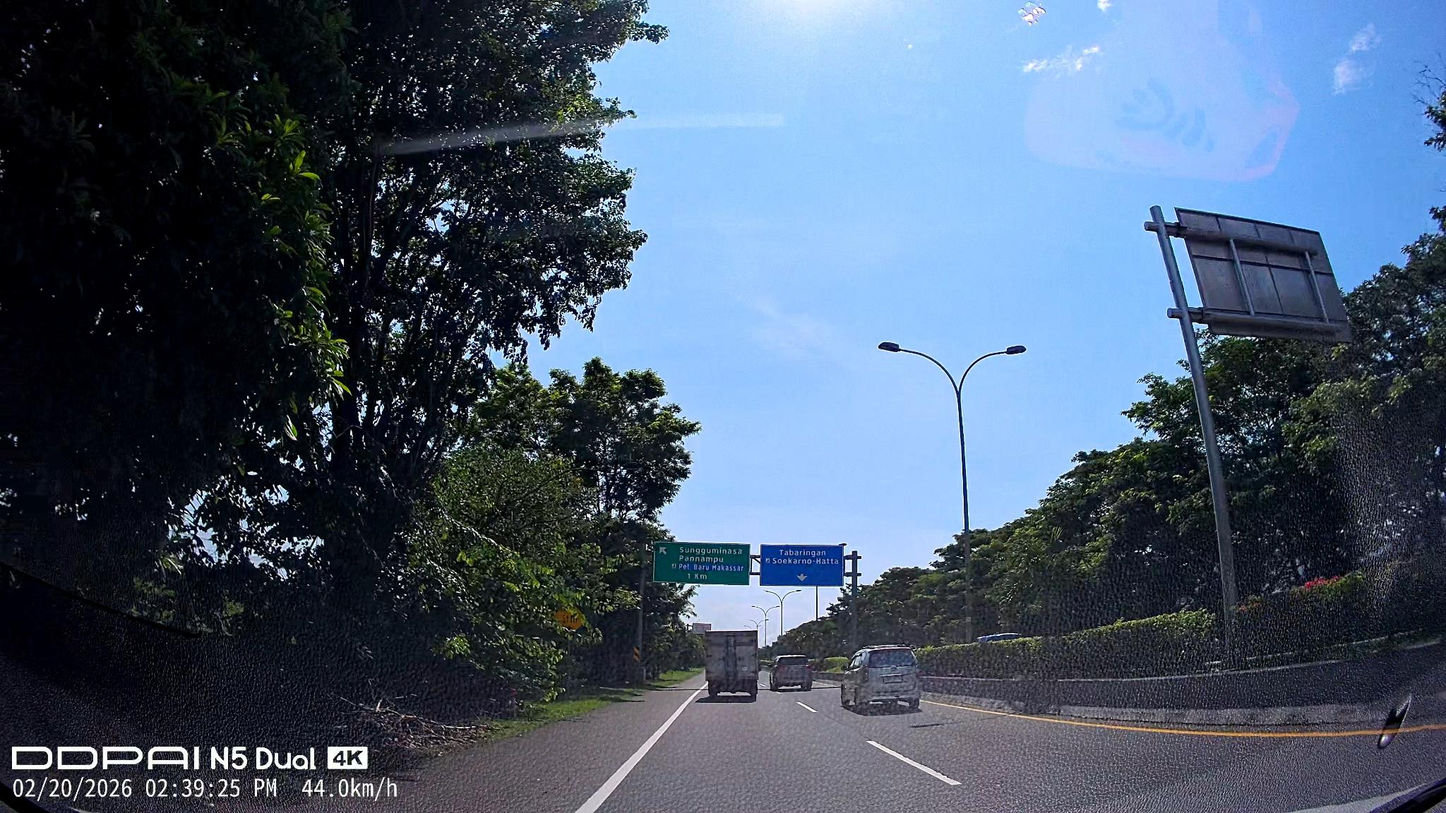rambu_teks: (653, 541, 750, 586), (759, 545, 844, 587)
